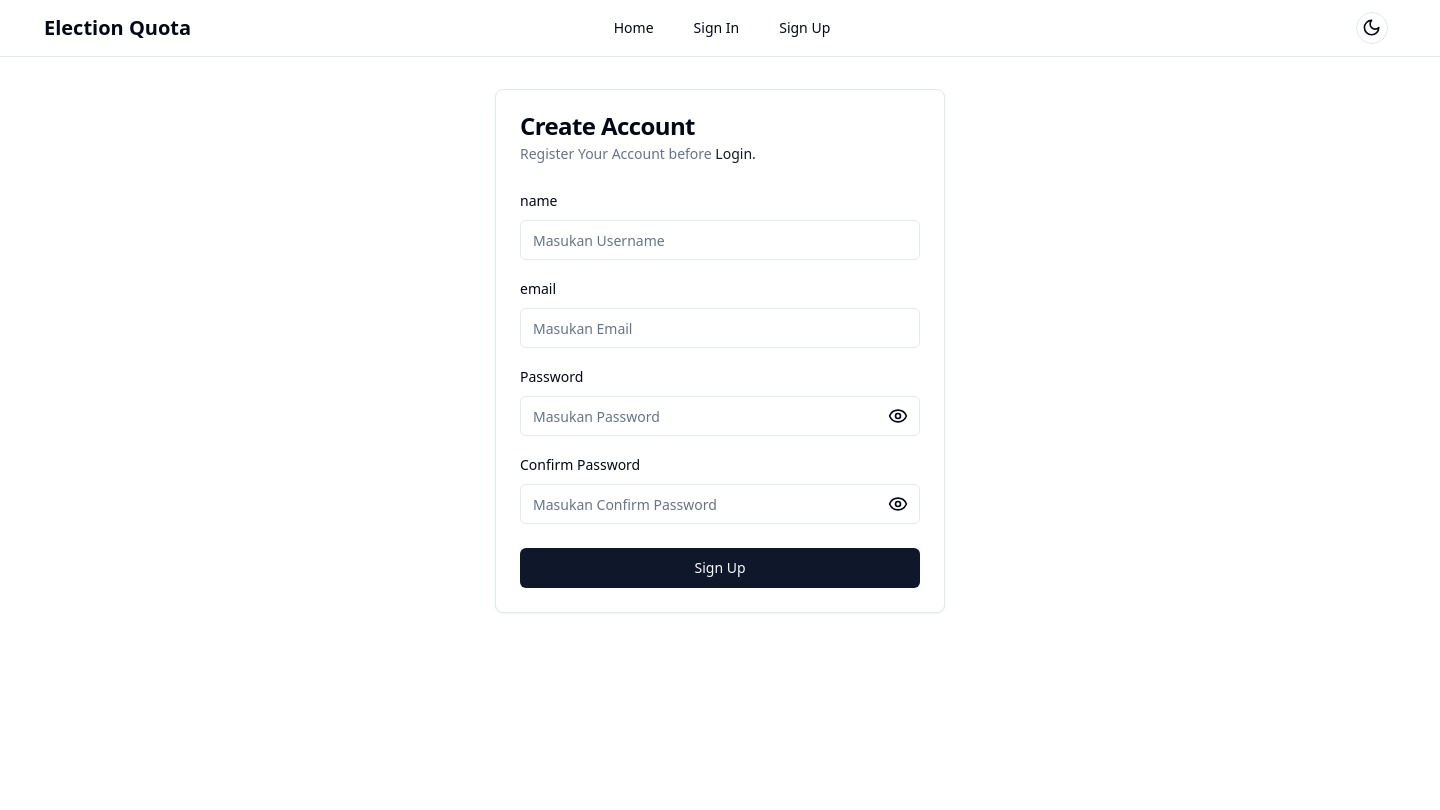
Scenario: Register Component › displays validation errors for invalid inputs
The width and height of the screenshot is (1440, 810).
// Simulate submitting the form with empty fields
Click the button "Sign Up" at (720, 568), box [520,548,920,588]
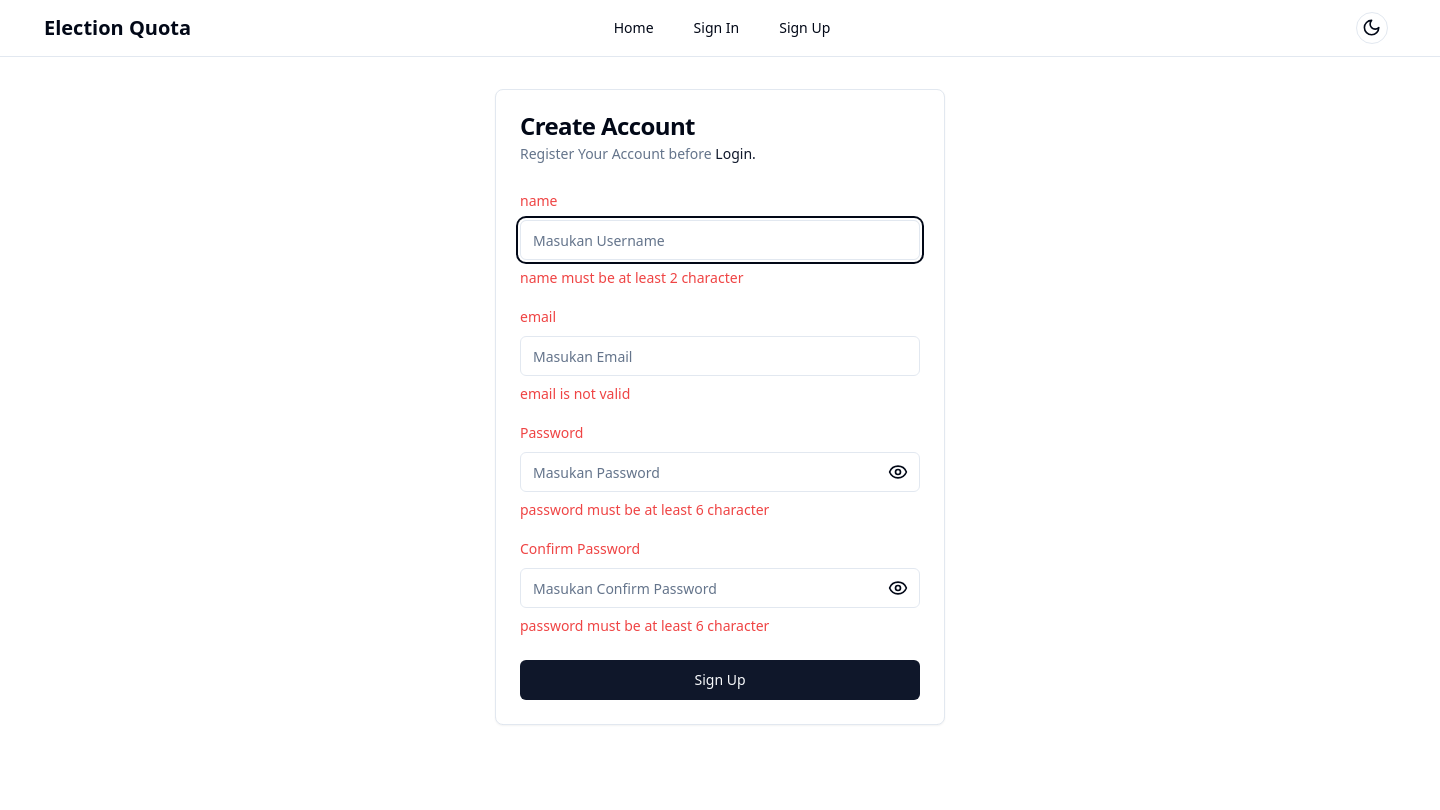
Expected: the text "name must be at least 2 character" is shown, [520,268,743,287]
Expected: the text "email is not valid" is shown, [520,384,630,403]
Expected: the text with test id "password-error" is shown, [520,500,769,519]
